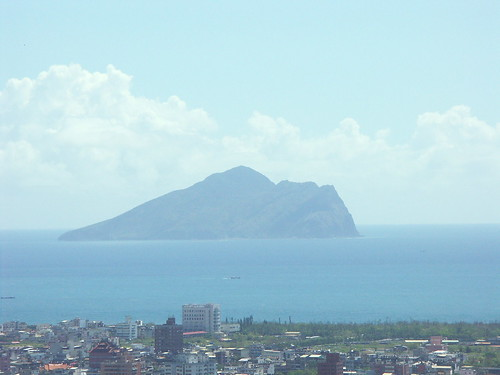turtleIsland: (61, 164, 359, 233)
